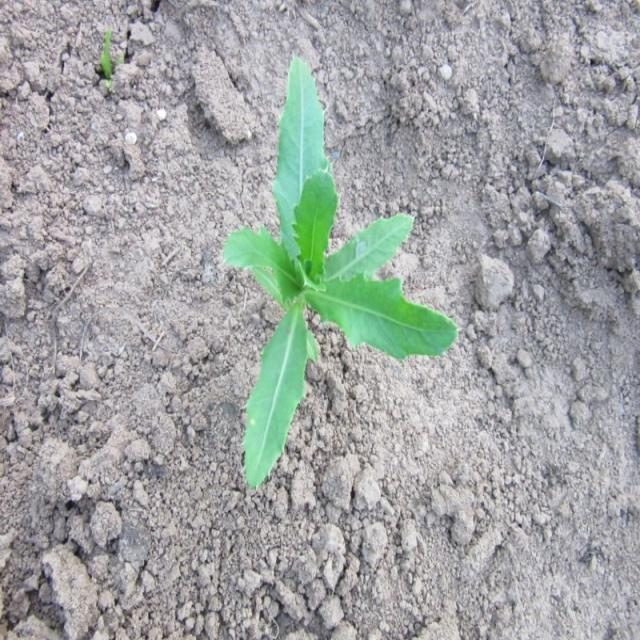cs: (217, 48, 458, 495)
